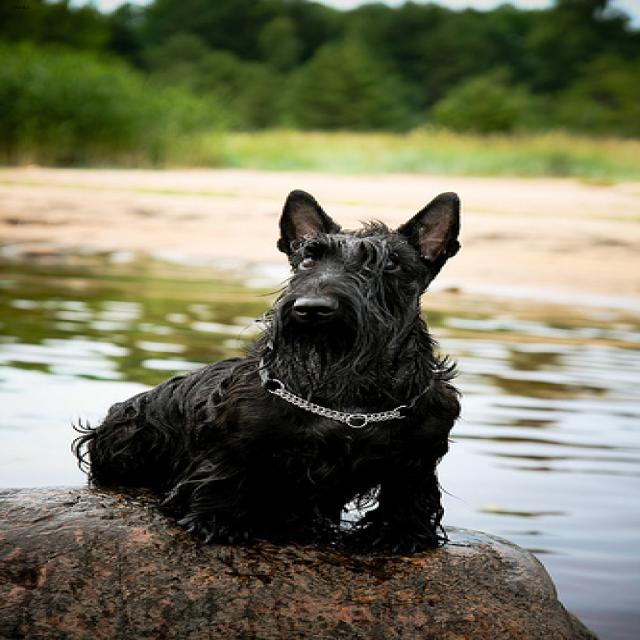dog-scottish_terrier: (58, 180, 473, 558)
